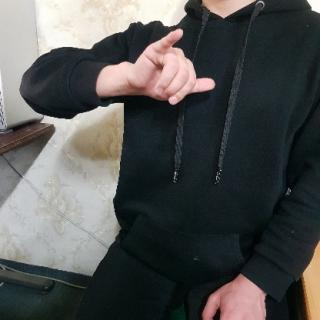YA: (130, 27, 218, 106)
